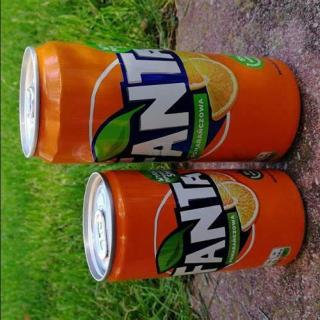Anorganik: (11, 45, 309, 167), (75, 160, 312, 292)
